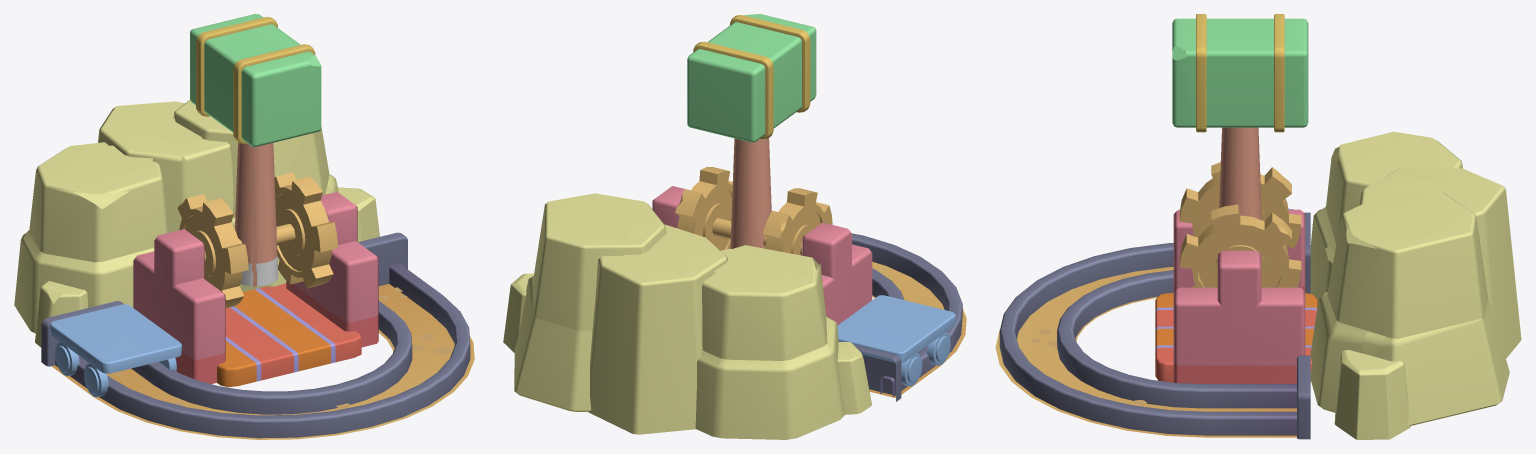
The model's file is StoneHouse.fbx.
3 views of the same model, side by side, from view 1: azimuth 30°, elevation 25°; view 2: azimuth 150°, elevation 25°; view 3: azimuth 270°, elevation 25° (orthographic). The views are drawn at different scales.
Parts seen in each view (by area): view 1: StoneHouse, Hammer, Buggy; view 2: StoneHouse, Hammer, Buggy; view 3: StoneHouse, Hammer.
Boxes of the visible parts, box(x1,y1,x2,y2) form: StoneHouse: box(14, 100, 474, 439); Hammer: box(177, 14, 337, 308); Buggy: box(49, 304, 182, 397); StoneHouse: box(503, 186, 966, 439); Hammer: box(675, 14, 832, 255); Buggy: box(837, 295, 955, 386); StoneHouse: box(995, 131, 1521, 439); Hammer: box(1172, 14, 1308, 287).
Size of the model in its own units: 689 by 549 by 826.
